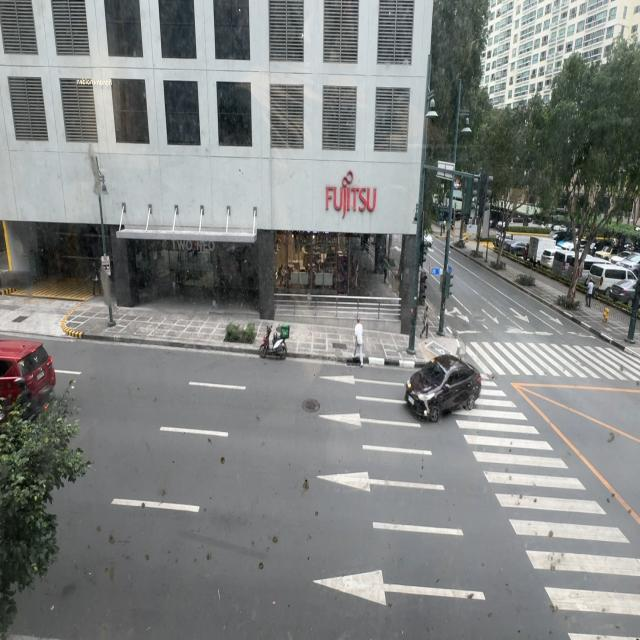jaywalking: (354, 318, 364, 367)
pedestrain: (420, 306, 429, 339), (587, 278, 594, 306)
